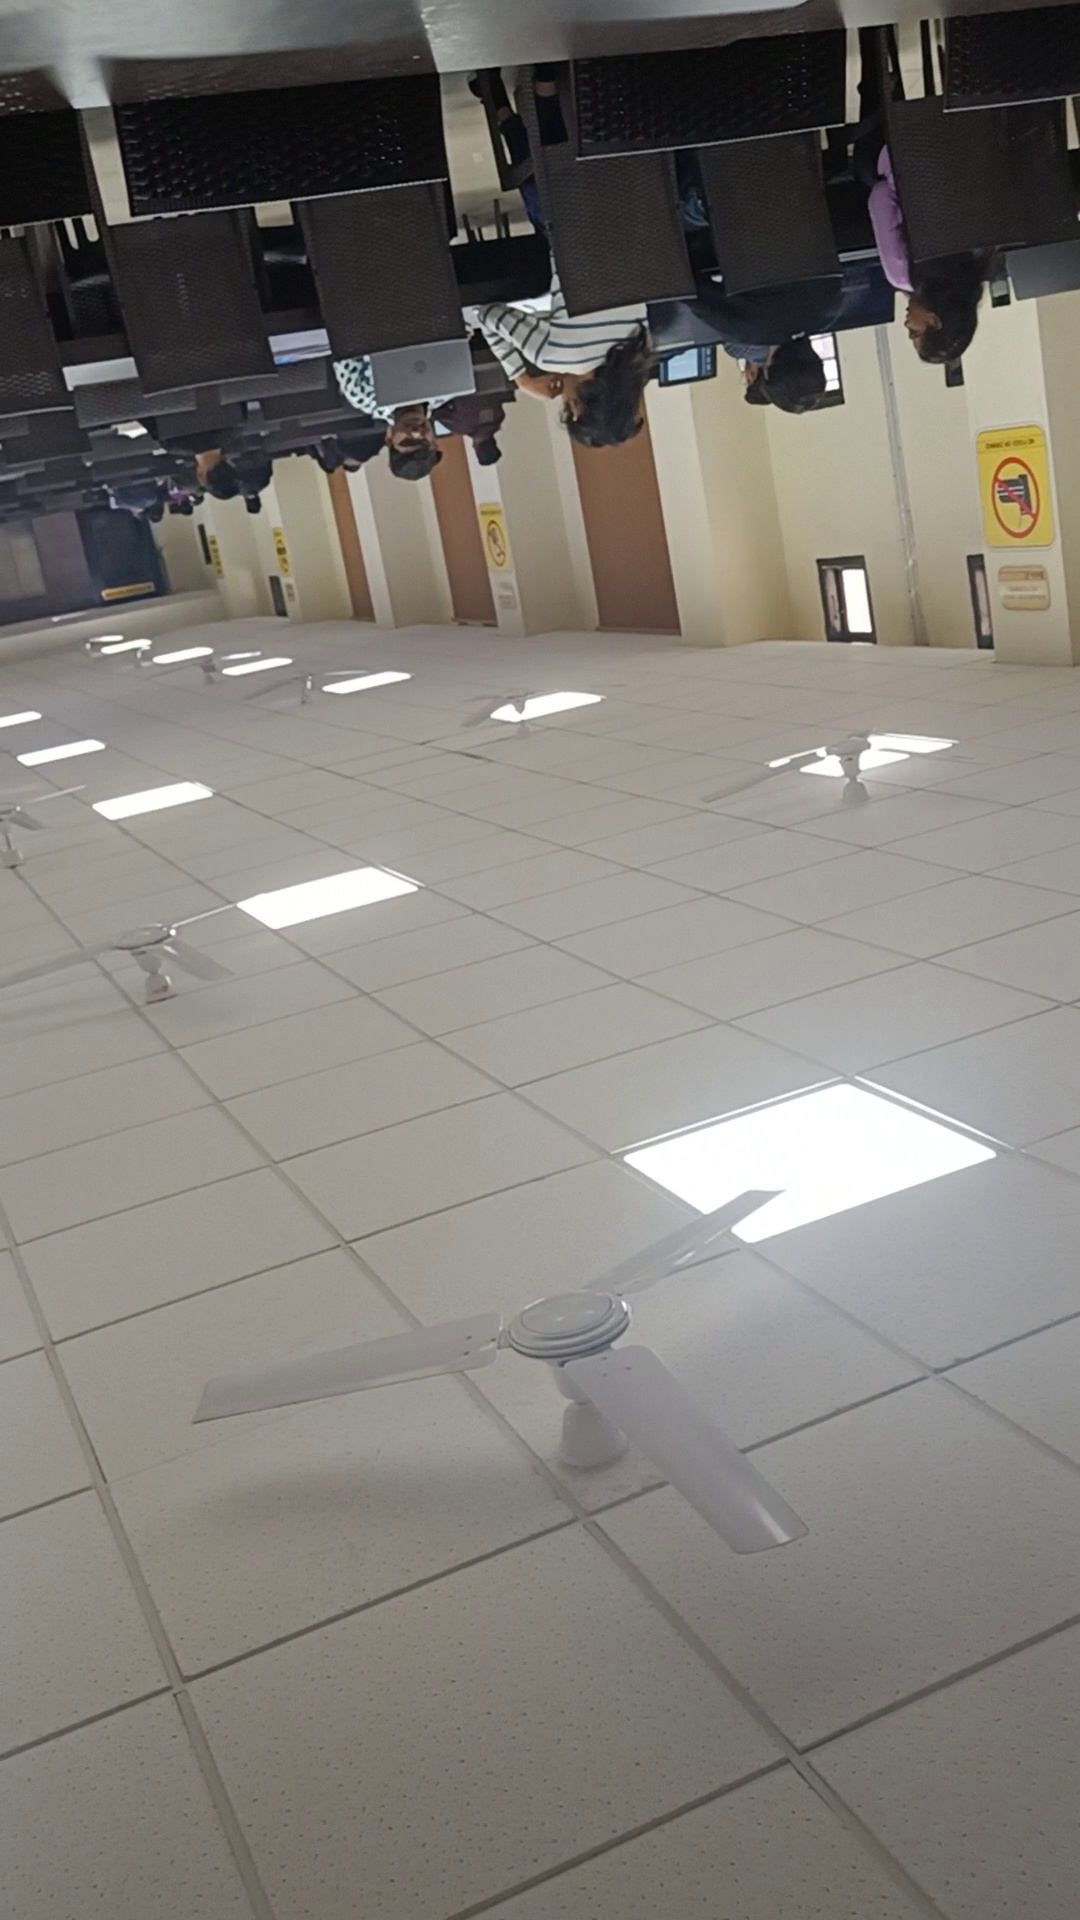fan: (195, 1172, 862, 1578), (695, 704, 985, 849), (1, 887, 276, 1040)
